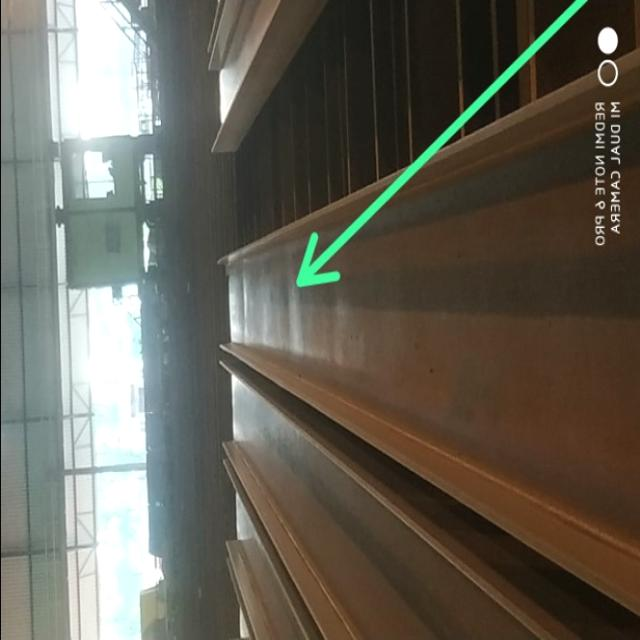defect: (229, 244, 308, 363)
